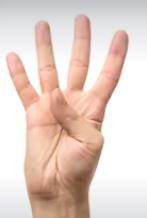right: (2, 14, 132, 198)
